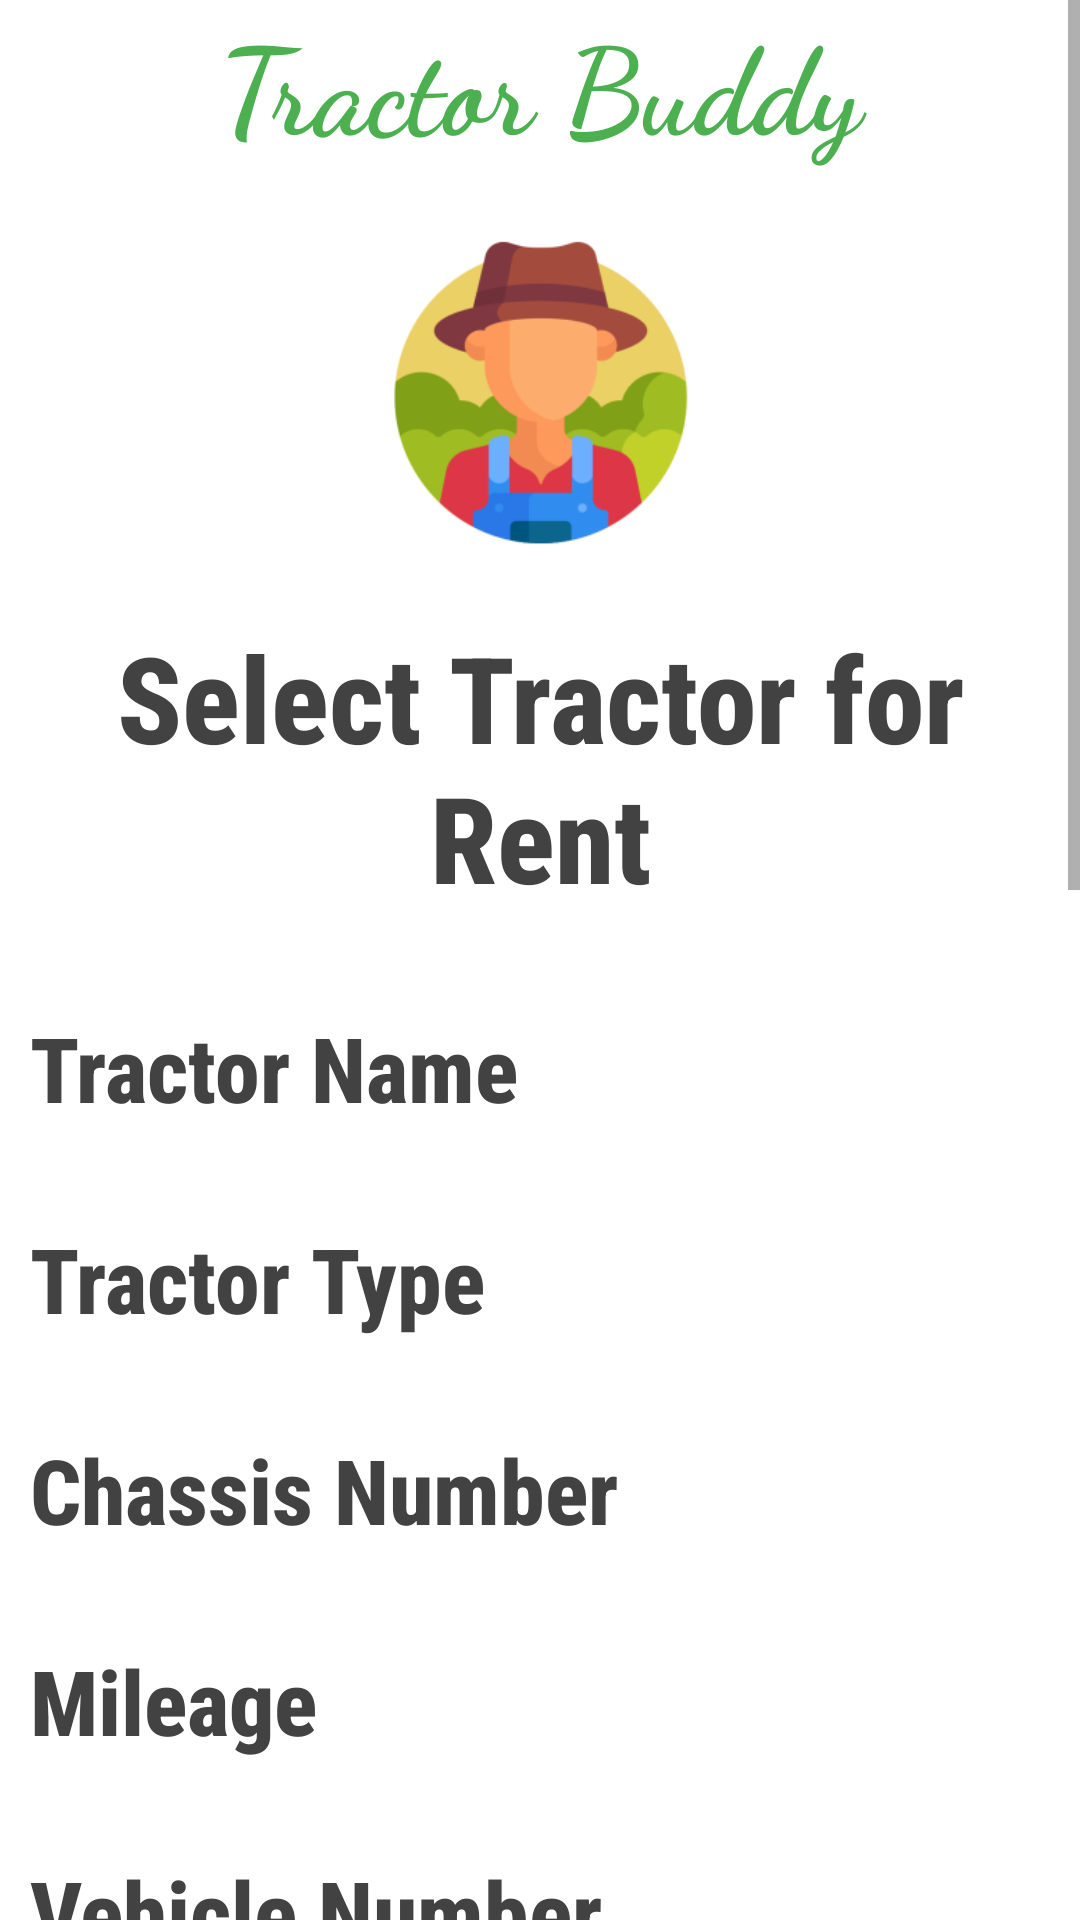

Screen size 1080px×1920px. Icon name, then its box in pixels as {"x1": x1, "y1": y1, "x2": x2, "y2": y2}:
farmerimg: {"x1": 394, "y1": 241, "x2": 688, "y2": 544}
